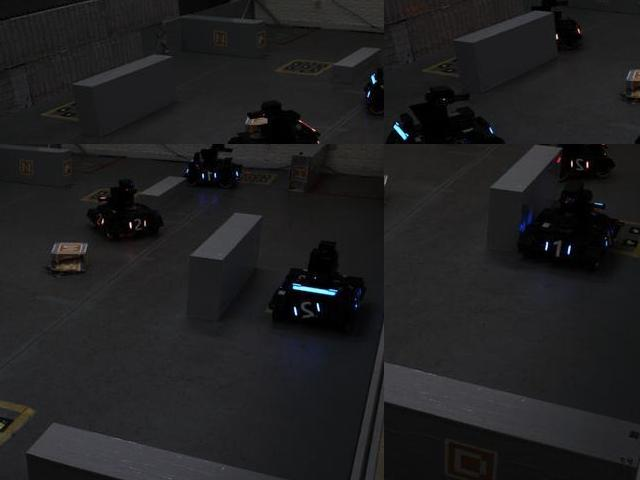armor: (539, 235, 578, 262), (291, 297, 327, 324), (124, 214, 152, 235), (568, 153, 595, 173), (197, 167, 223, 184), (439, 137, 477, 143)
